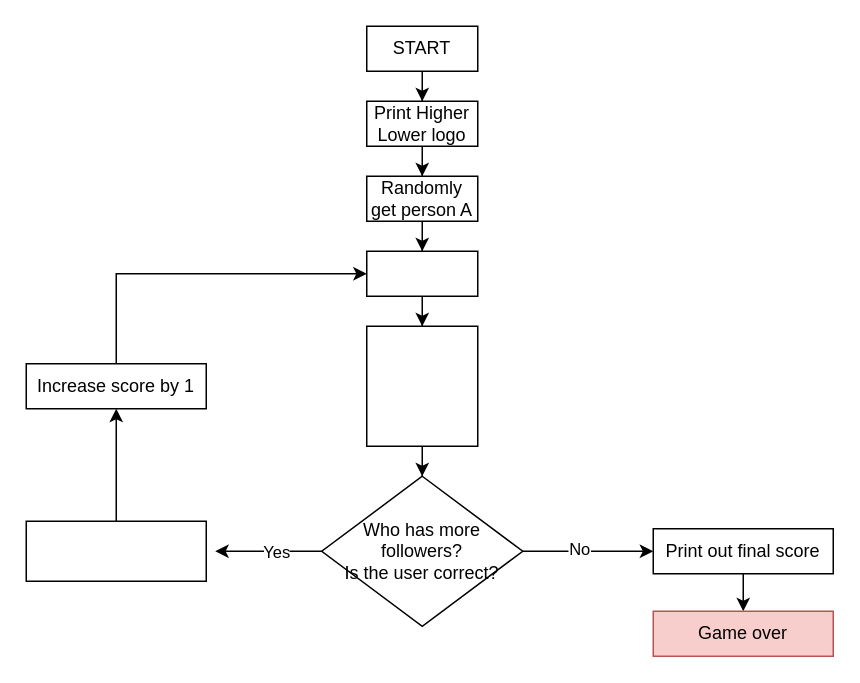
Image size: 860x683. Some labels were removed from this diagram. The shapes that lost their labels are listed below. From the top down, each one's centre as x and y in pixels, then its label:
(421,273): Randomly get person B
(421,385): Print person A and compare against person B
(115,550): Person B becomes Person A
